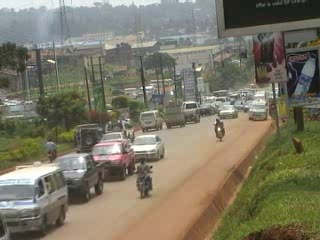Car: (88, 138, 134, 182), (70, 122, 106, 158), (128, 133, 166, 162), (103, 118, 135, 142), (100, 131, 131, 150), (219, 105, 239, 122), (198, 100, 217, 117)
Motorcycle: (132, 156, 155, 199), (44, 136, 59, 163), (212, 115, 226, 143)
